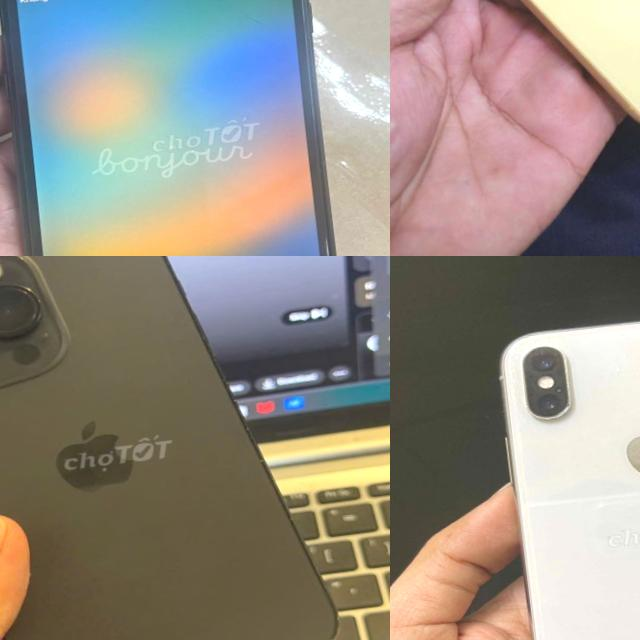gen_11: (390, 0, 640, 167)
gen_14: (0, 256, 355, 640)
gen_x_xs: (500, 322, 640, 640)
scratch: (0, 0, 362, 256), (562, 398, 576, 412)
